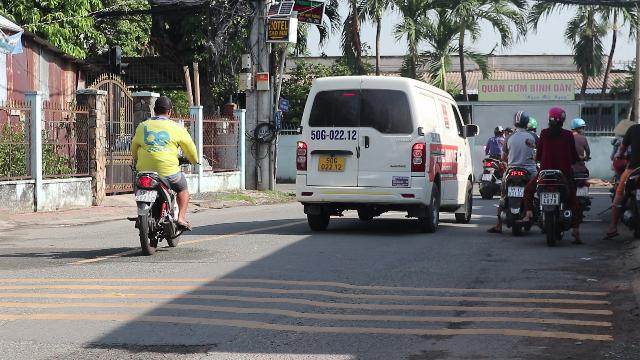helmet: (152, 96, 172, 118)
licenseplate: (546, 106, 566, 127), (512, 110, 528, 130)
motorcyclist: (126, 94, 194, 252), (530, 105, 590, 243), (494, 109, 538, 236)
nohelmet: (541, 192, 559, 204), (136, 190, 156, 200), (508, 187, 522, 195)
